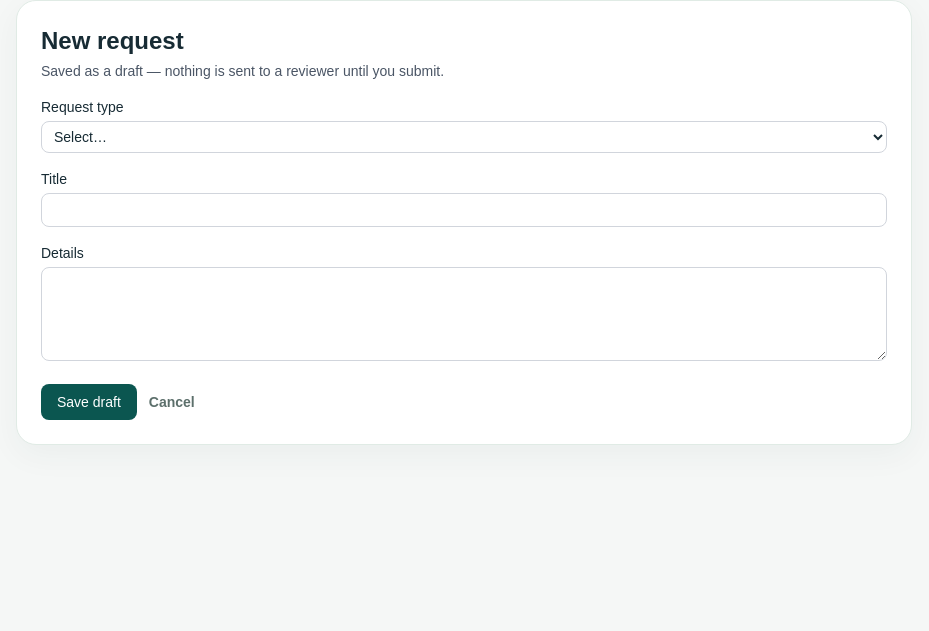
Test: RequestFormPage › shows the amount input matching the type's unit
Select "Annual leave" in the dropdown labelled "Request type" at (464, 137), box [41,121,887,153]
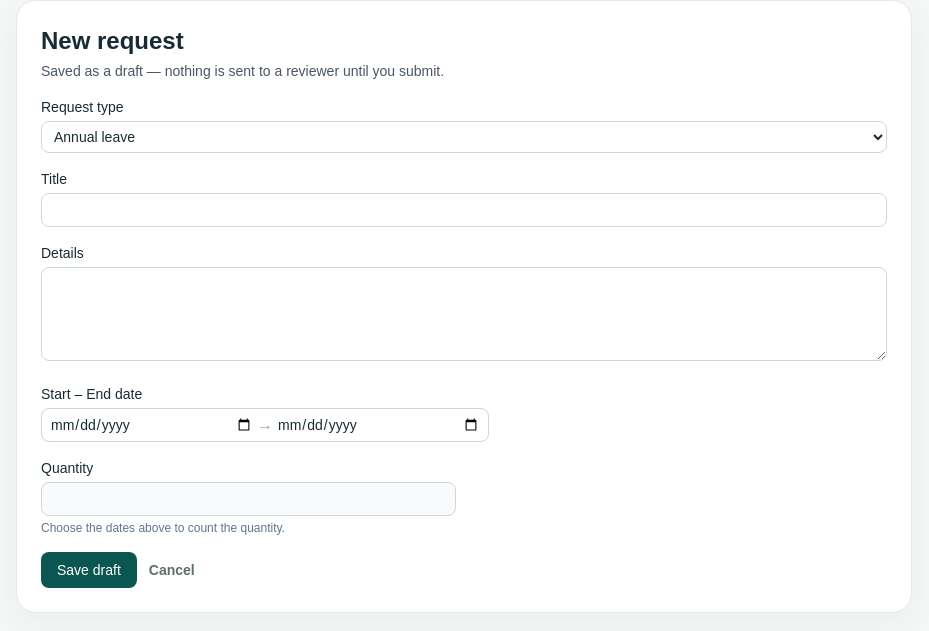
Result: the number field labelled "Quantity" is shown at [41,482,456,516]
Result: the date field named "start date" is shown at [50,409,253,441]
Select "Early leave (HR)" in the dropdown labelled "Request type" at (464, 137), box [41,121,887,153]
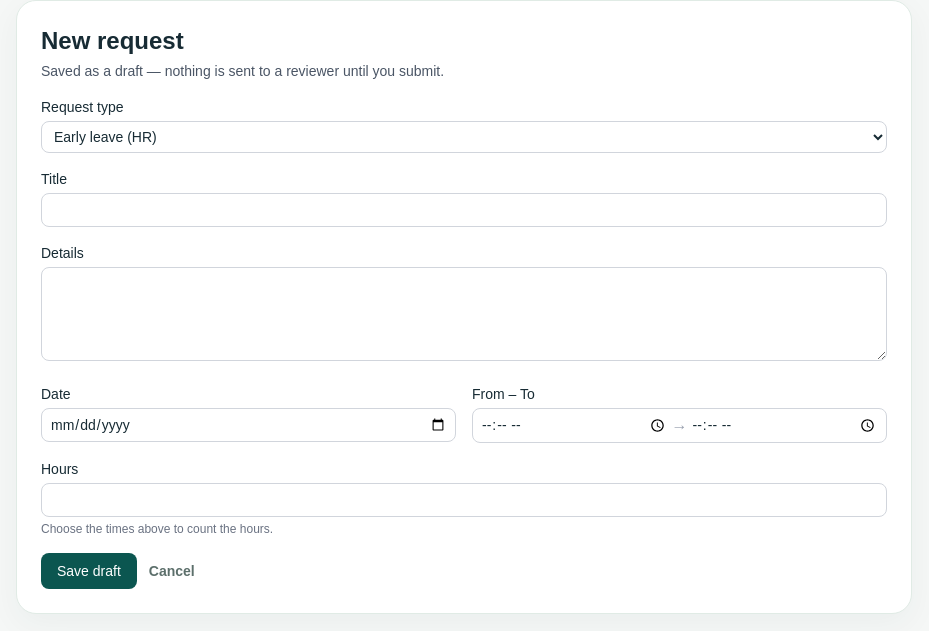
Result: the number field labelled "Hours" is shown at [41,483,887,517]
Result: the date field labelled "Date" is shown at [41,408,456,442]
Result: the label labelled "Quantity" is gone
